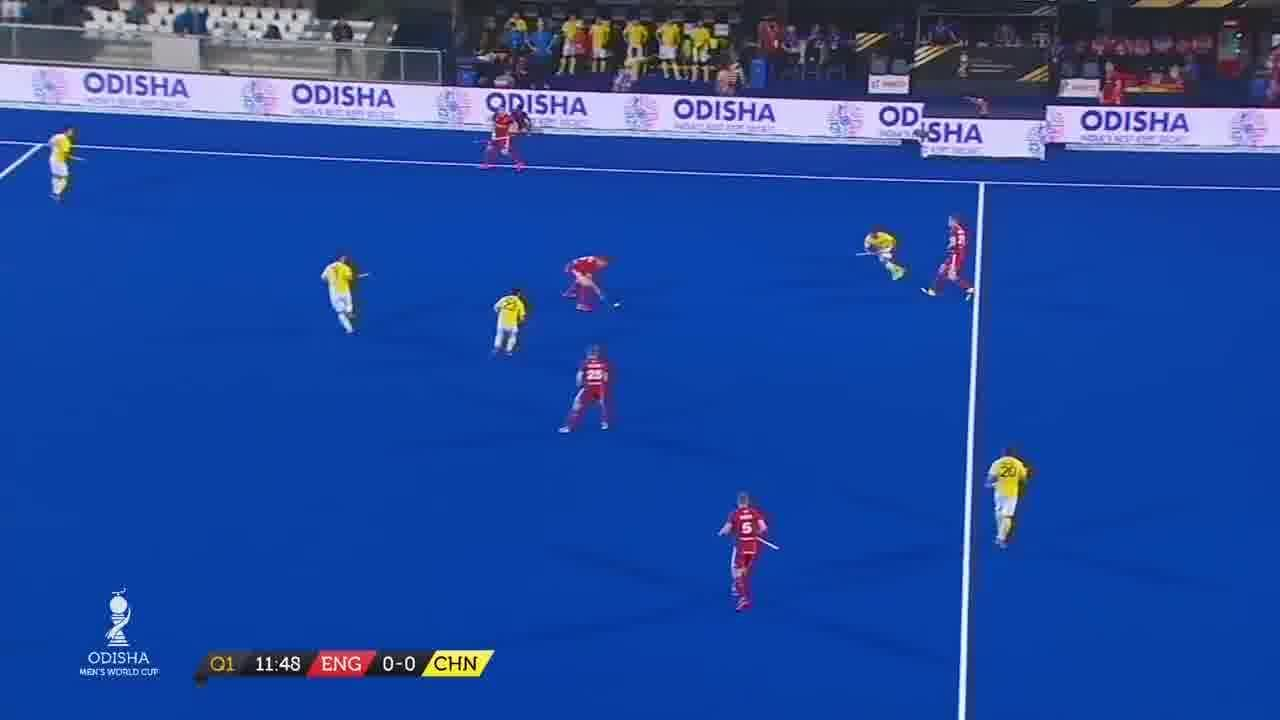ball: (612, 298, 625, 314)
